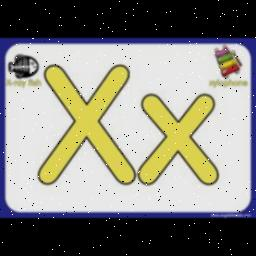x: (36, 60, 136, 188), (139, 88, 223, 188)
